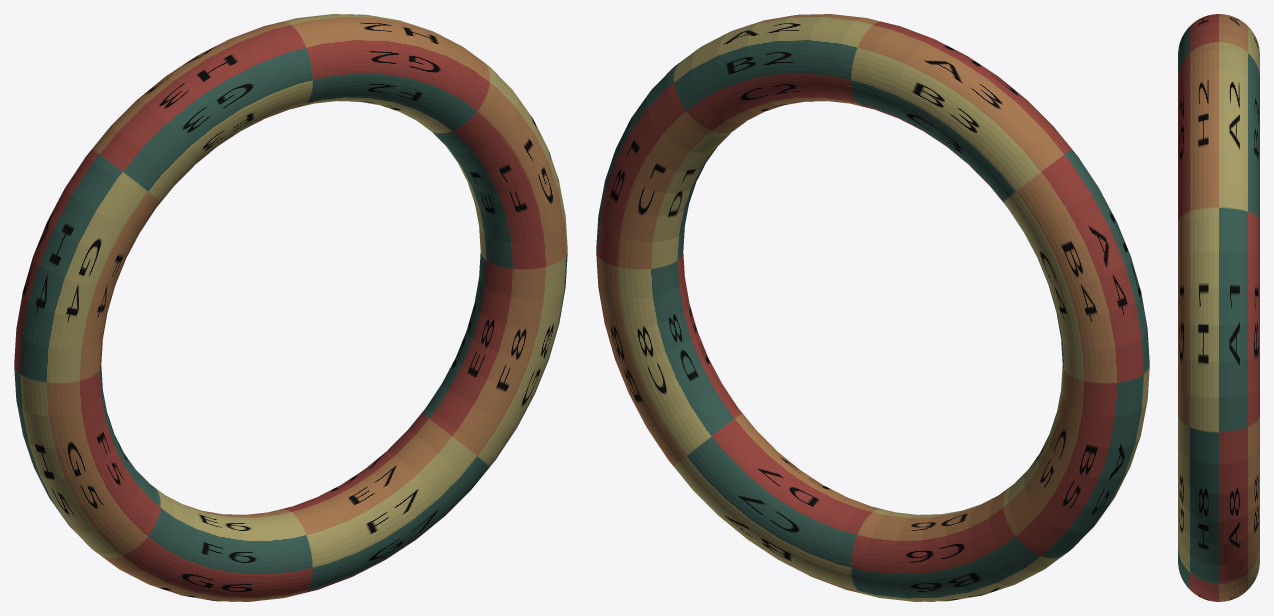
File: texture_torus_R6_r1.glb
3 renders of one model, left to right at view 1: azimuth 30°, elevation 25°; view 2: azimuth 150°, elevation 25°; view 3: azimuth 270°, elevation 25°, orthographic. The views are drawn at different scales.
Parts seen in each view (by area): view 1: world; view 2: world; view 3: world.
Part boxes in pixels (<box>): world: <box>14,14,567,601</box>; world: <box>596,14,1149,601</box>; world: <box>1178,14,1259,601</box>.
Bounding box in the file's own units: 16.27 × 16.23 × 2.26.
Materials: 1 (1 with a texture image).
